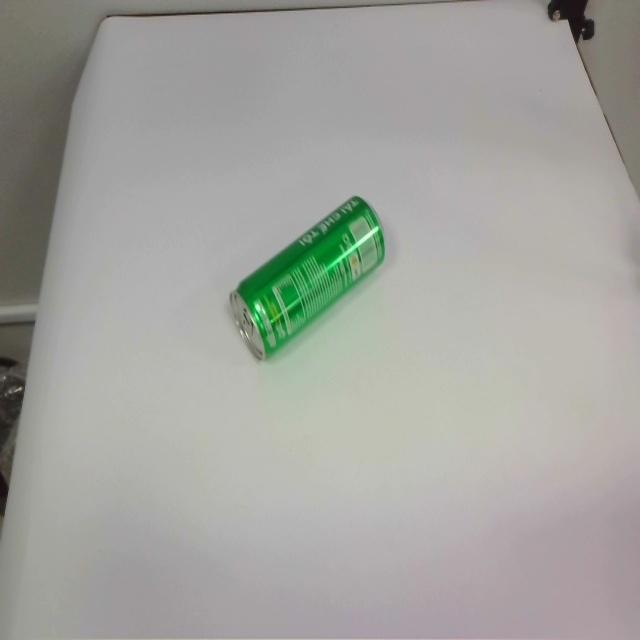debris: (230, 195, 387, 360)
